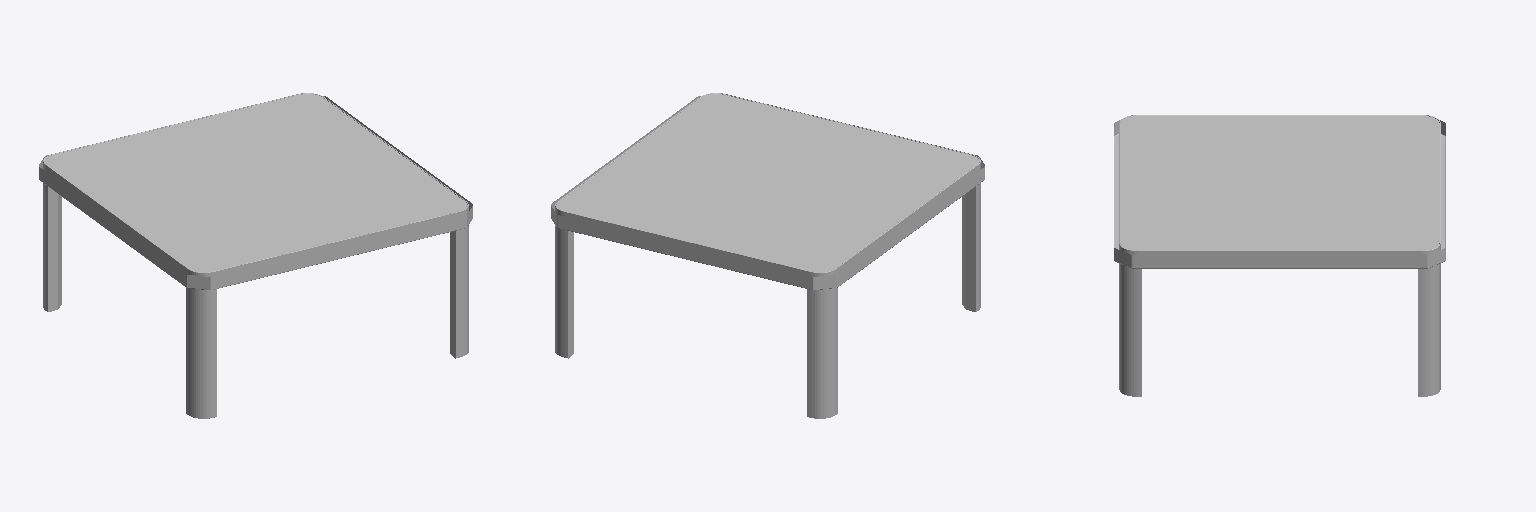
File: table.obj
The picture shows the model from 3 angles: view 1: azimuth 30°, elevation 25°; view 2: azimuth 150°, elevation 25°; view 3: azimuth 270°, elevation 25°; orthographic projection.
Visible parts, largest first — view 1: Cube, Cube.002; view 2: Cube, Cube.002; view 3: Cube, Cube.002.
Part boxes in pixels (x1,y1,x2,y2): Cube: (43,93,468,418); Cube.002: (39,93,472,289); Cube: (555,93,980,418); Cube.002: (551,93,984,289); Cube: (1119,115,1440,396); Cube.002: (1114,115,1445,268).
Size of the model in its own units: 0.6926 by 0.3367 by 0.6926.